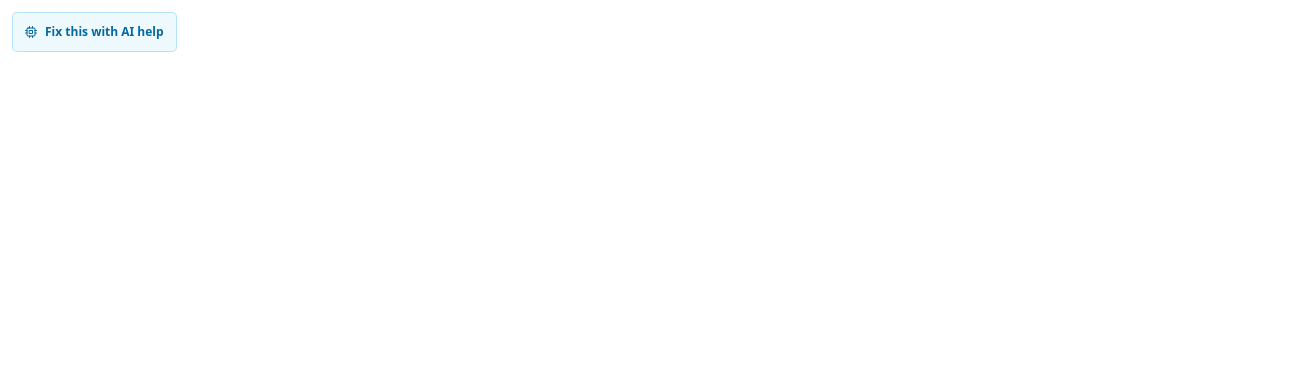
Test: applying a remediation › offers the model's suggested values, drawn from the device
Click the button "Fix this with AI help".
click(94, 32)  # box [12, 12, 177, 52]
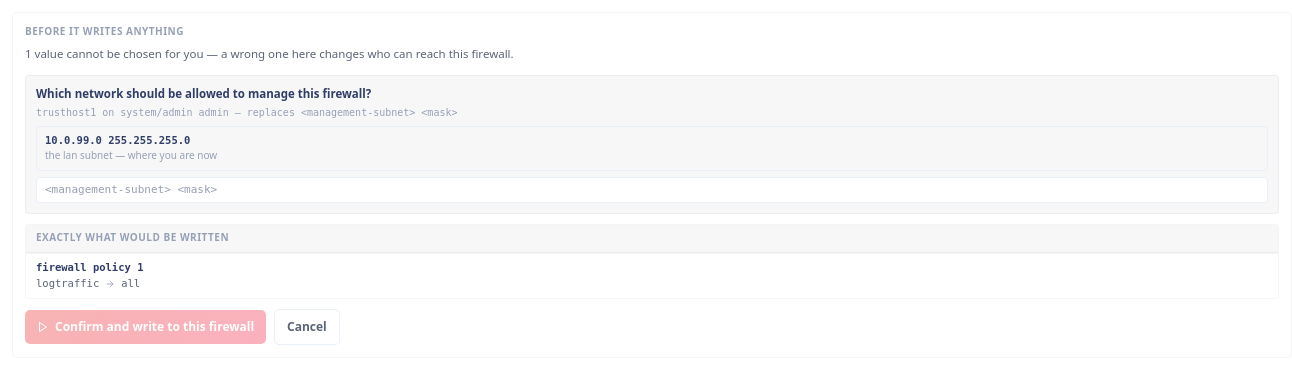
Expected: the text "Which network should be allowed to manage this firewall?" is shown, [36, 86, 371, 103]
Expected: the text "10.0.99.0 255.255.255.0" is shown, [45, 133, 190, 149]
Expected: the text "where you are now" is shown, [113, 148, 217, 164]
